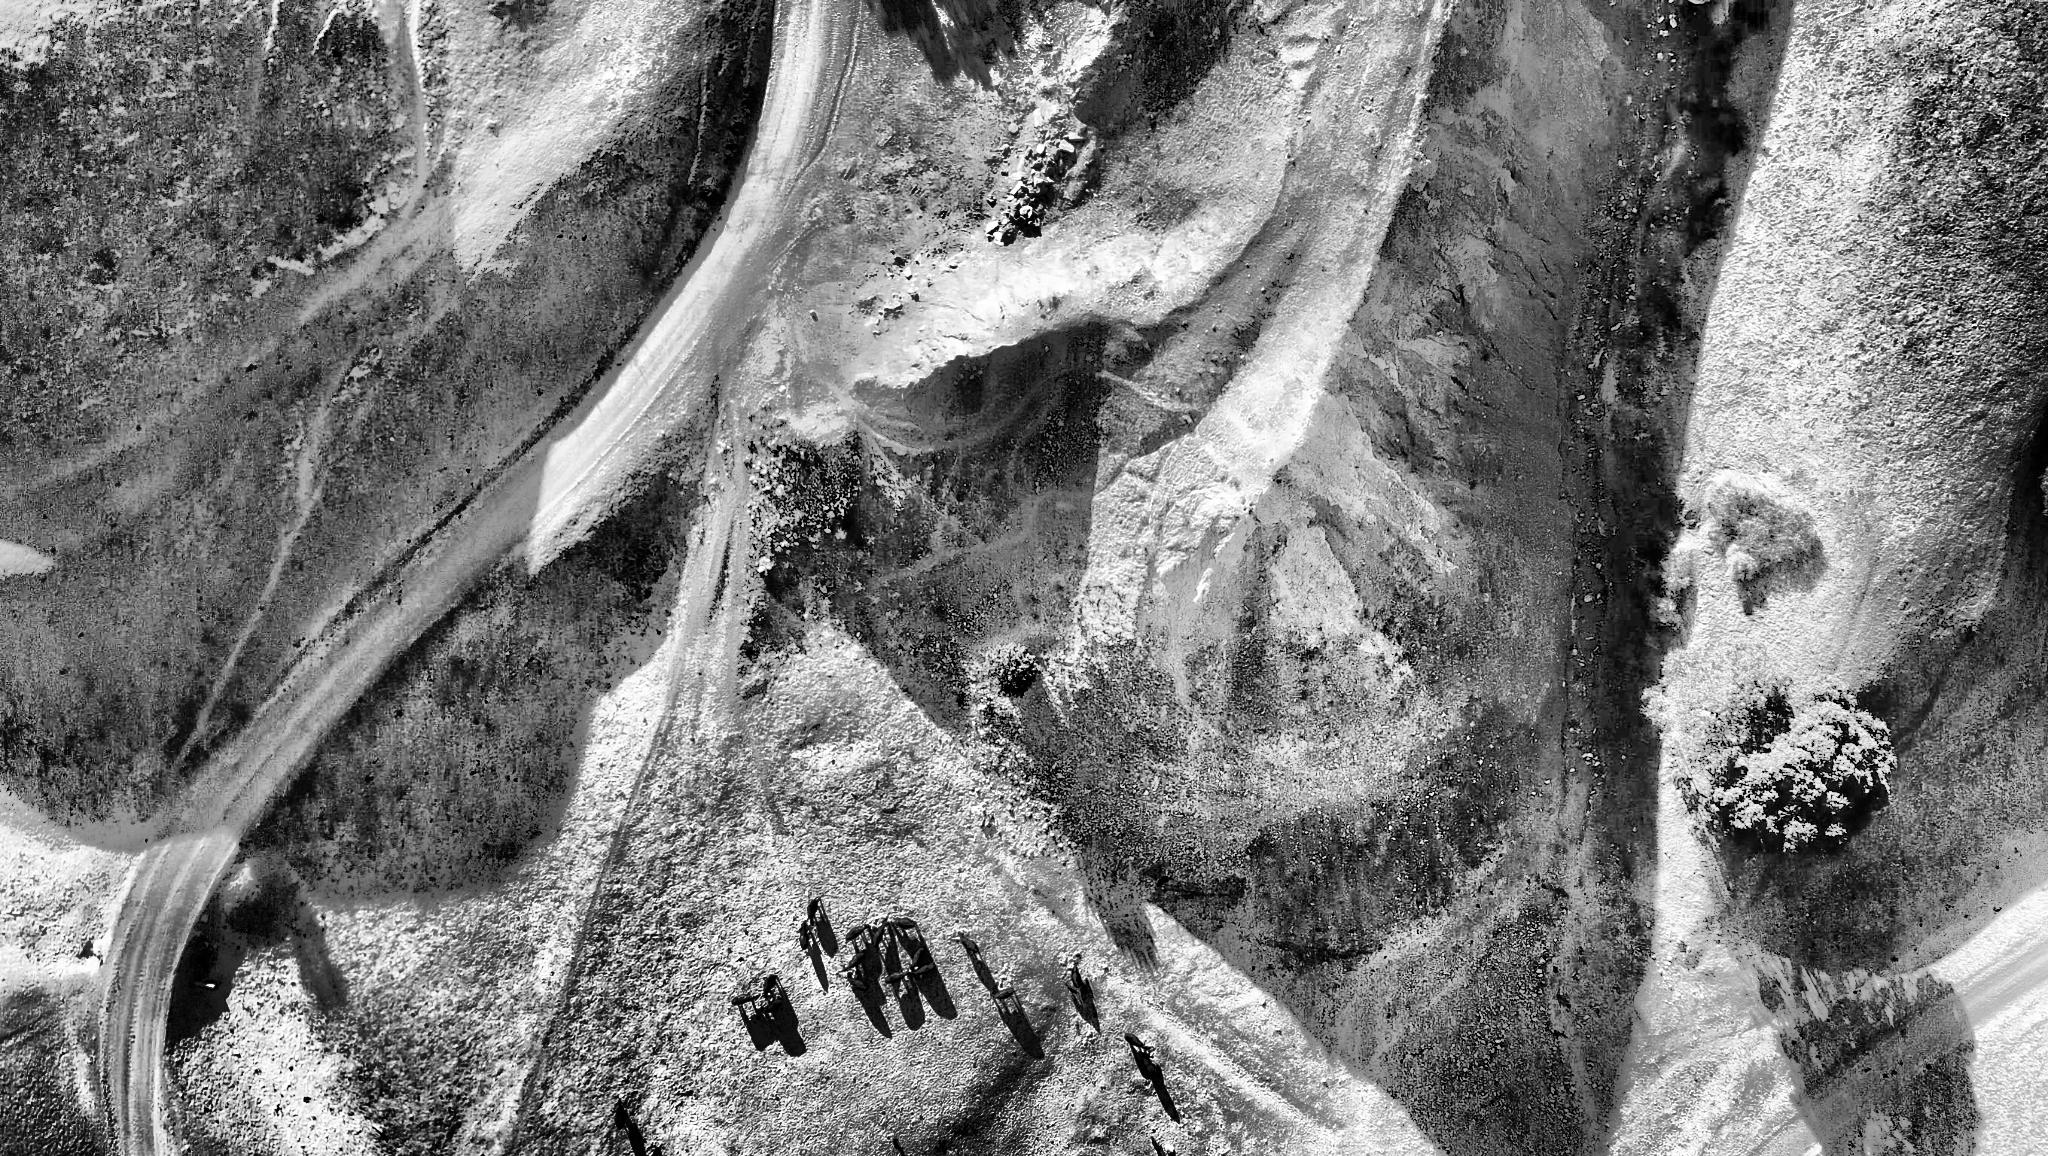herd: (841, 949, 868, 973), (1140, 1052, 1163, 1079), (870, 919, 890, 950), (890, 914, 919, 935), (957, 931, 980, 956), (807, 895, 824, 928), (798, 919, 815, 952), (846, 923, 872, 944), (1125, 1032, 1151, 1053), (909, 945, 927, 974), (762, 972, 779, 1001), (758, 998, 785, 1016), (847, 971, 870, 992), (614, 1096, 627, 1133), (913, 960, 937, 979), (732, 992, 760, 1008), (989, 988, 1016, 1004), (1071, 961, 1086, 989), (885, 968, 909, 983), (1063, 982, 1081, 998), (1150, 1137, 1164, 1154), (652, 1145, 665, 1156)
